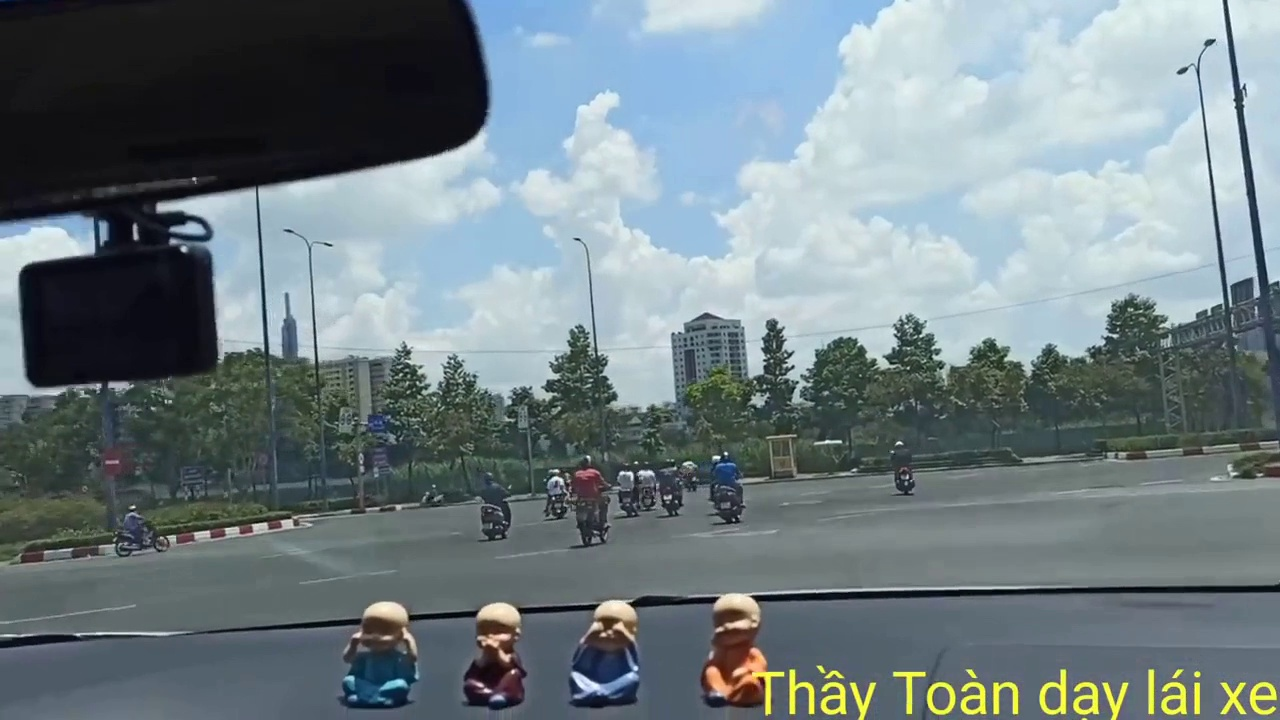Cấm các phương tiện quy định theo khung giờ: (325, 402, 356, 435)
Cấm đi ngược chiều: (96, 444, 123, 483)
Làn đường cho từng xe: (366, 407, 389, 434)
